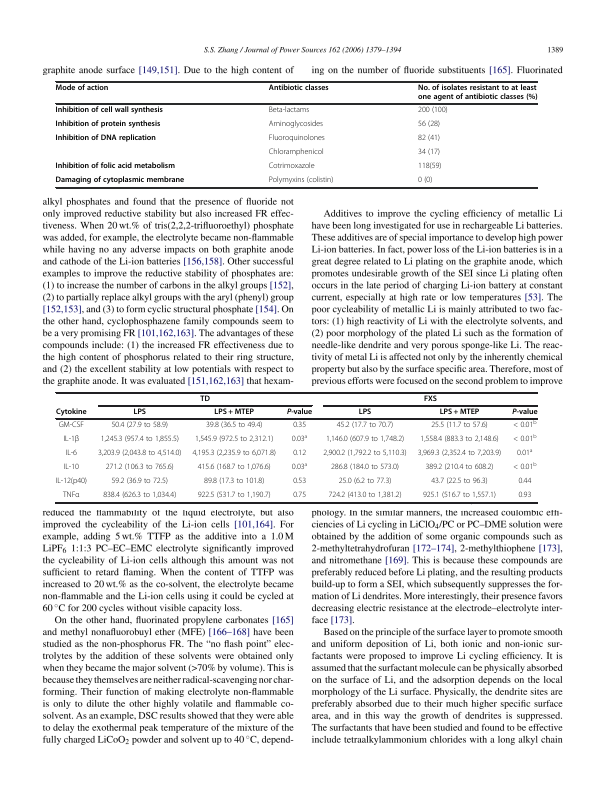borderless: (54, 391, 537, 502), (54, 80, 537, 187)
cell: (417, 84, 538, 102), (55, 176, 185, 186), (55, 162, 176, 172), (55, 106, 164, 116), (55, 120, 161, 130), (55, 134, 157, 144), (191, 449, 277, 459), (322, 449, 408, 459), (97, 449, 182, 459), (417, 449, 502, 459), (100, 435, 180, 445), (194, 435, 274, 445), (325, 435, 405, 445), (419, 435, 499, 445), (197, 463, 272, 473), (102, 491, 177, 501), (197, 491, 272, 501), (327, 491, 402, 501), (422, 491, 497, 501), (105, 463, 175, 473), (330, 463, 400, 473), (424, 463, 494, 473), (268, 176, 334, 186), (203, 477, 265, 487), (110, 421, 169, 431), (430, 421, 489, 431), (110, 477, 169, 487), (430, 477, 489, 487), (268, 134, 326, 144), (205, 421, 263, 431), (336, 421, 394, 431), (268, 120, 324, 130), (268, 148, 324, 158), (268, 84, 330, 93), (338, 477, 392, 487), (55, 84, 109, 93), (268, 162, 315, 172), (268, 106, 310, 116), (213, 408, 255, 418), (439, 408, 480, 418), (55, 477, 88, 487), (55, 408, 87, 418), (417, 106, 448, 116), (512, 420, 537, 431), (512, 434, 537, 445), (512, 462, 537, 473), (286, 408, 313, 418), (511, 408, 538, 418), (58, 421, 85, 431), (417, 162, 442, 172), (417, 120, 441, 130), (417, 134, 441, 144), (417, 148, 441, 158), (291, 434, 308, 445), (516, 448, 533, 459), (291, 462, 308, 473), (62, 435, 80, 445), (62, 491, 80, 501), (63, 463, 80, 473), (417, 176, 433, 186), (132, 408, 147, 418), (292, 421, 307, 431), (292, 449, 307, 459), (292, 477, 307, 487), (517, 477, 532, 487), (292, 491, 307, 501), (517, 491, 532, 501), (358, 408, 372, 418), (64, 449, 78, 459), (423, 395, 438, 404), (199, 395, 211, 404)
